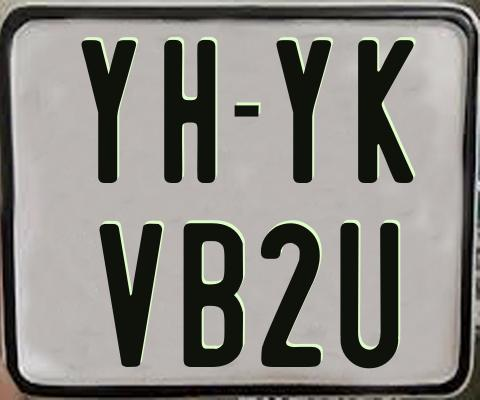2: (258, 220, 322, 369)
B: (183, 222, 248, 368)
H: (163, 40, 215, 184)
K: (357, 38, 414, 182)
U: (337, 223, 395, 374)
V: (99, 221, 163, 369)
Y: (276, 37, 333, 186), (79, 38, 135, 183)
